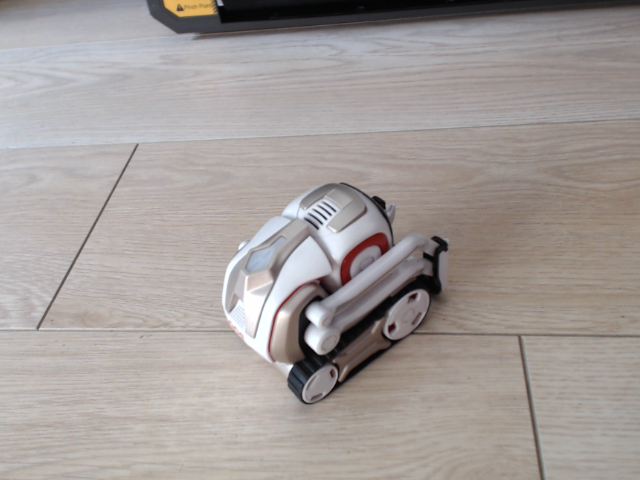cozmo: (221, 176, 452, 407)
